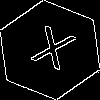X: (25, 25, 78, 80)
